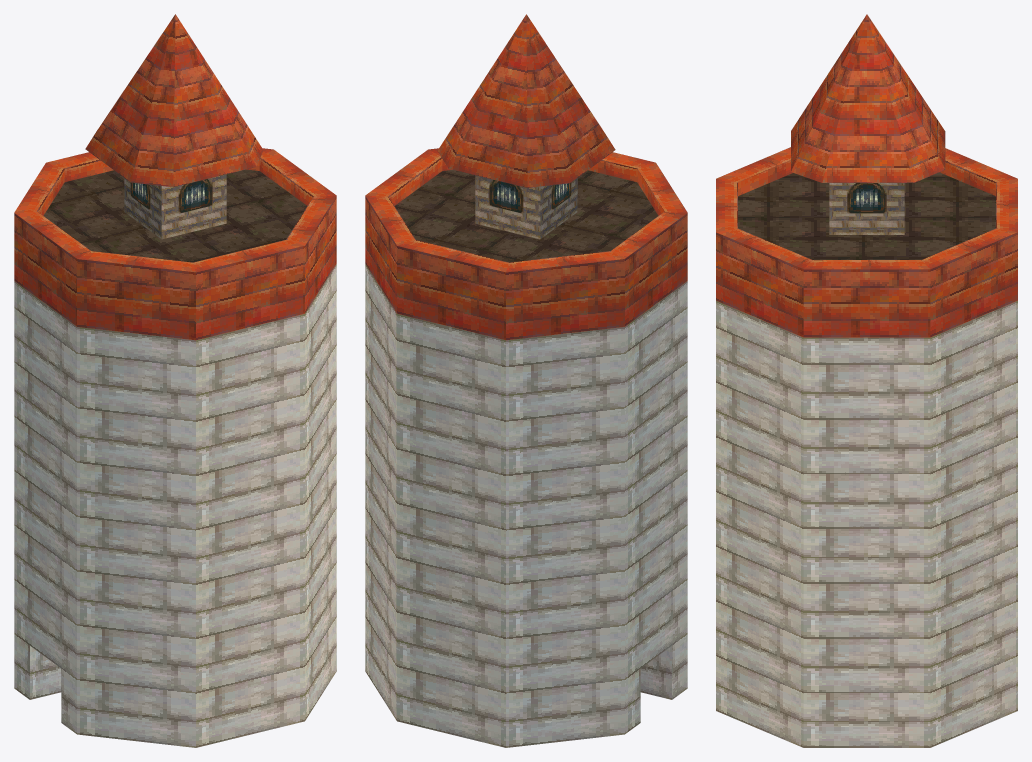
File: bk_tower.glb
3 views of the same model, side by side, from view 1: azimuth 30°, elevation 25°; view 2: azimuth 150°, elevation 25°; view 3: azimuth 270°, elevation 25° (orthographic).
Parts seen in each view (by area): view 1: bk_tower; view 2: bk_tower; view 3: bk_tower.
Part boxes in pixels (x1,y1,x2,y2): bk_tower: (14,14,336,747); bk_tower: (365,14,687,747); bk_tower: (716,14,1017,747).
Size of the model in its own units: 125 by 306 by 125.
Materials: 6 (6 with a texture image).
